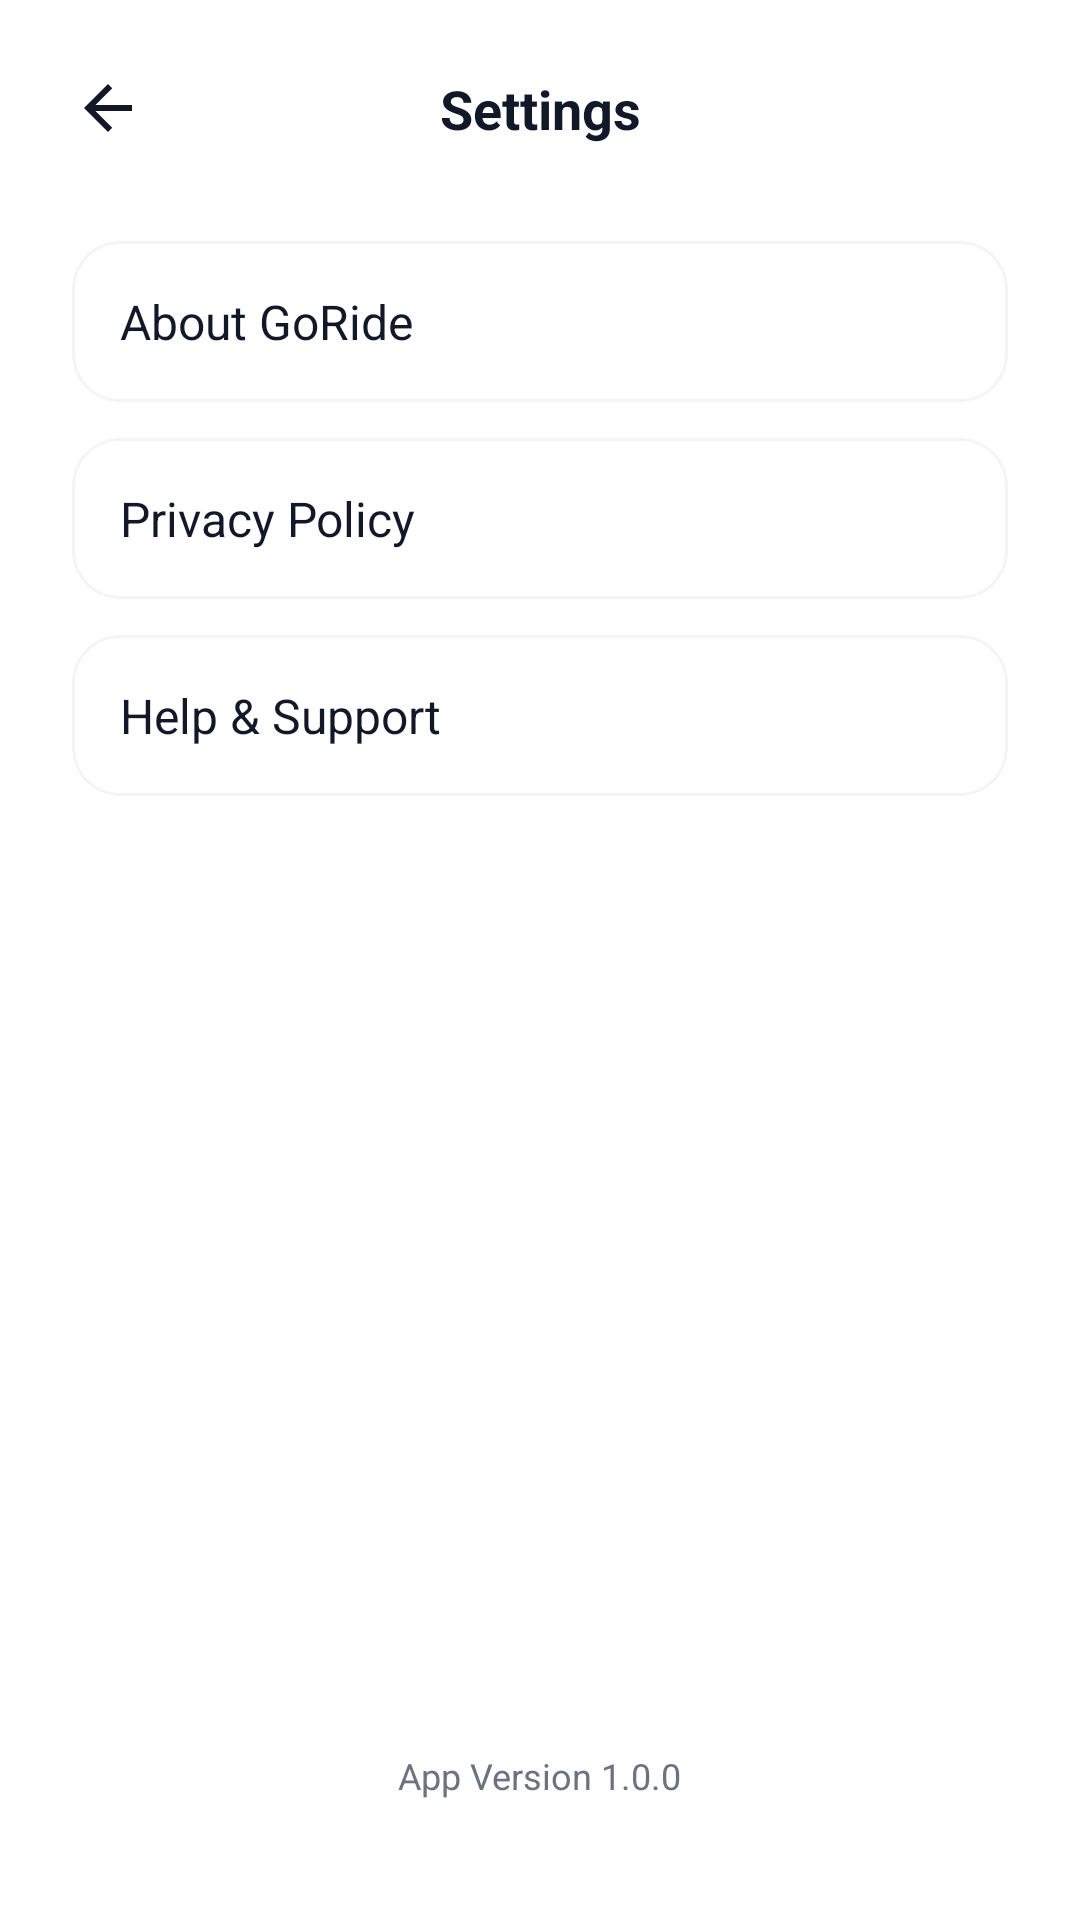

Named icons in this screenshot (1080 x 1920) and their bounding boxes, (x1, y1, x2, y2):
arrow back: (84, 84, 132, 132)
